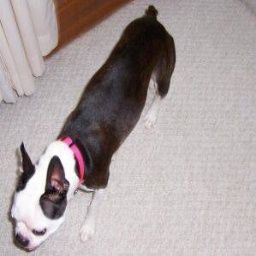dog: (9, 3, 173, 255)
